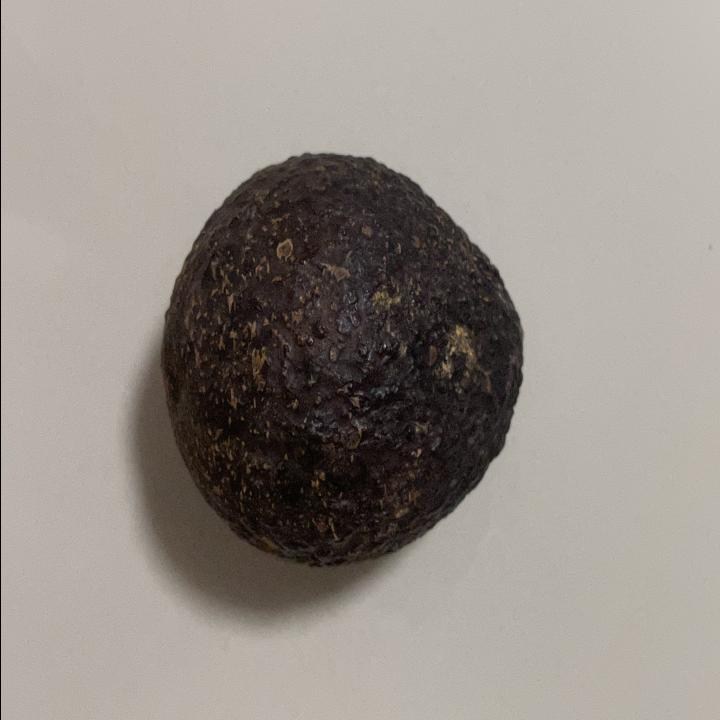Level3: (152, 139, 536, 577)
